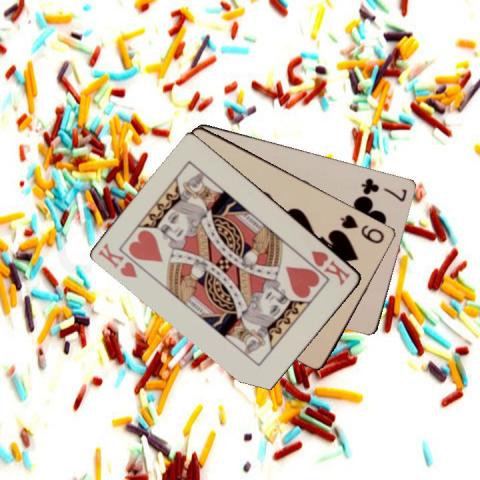7c: (358, 174, 408, 202)
9s: (337, 212, 386, 246)
Kh: (308, 247, 352, 287), (96, 240, 139, 280)
